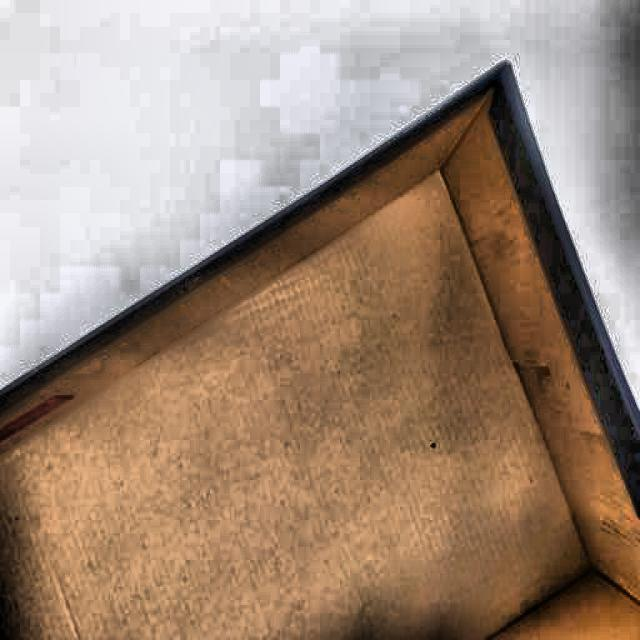cardboard: (0, 59, 639, 638)
